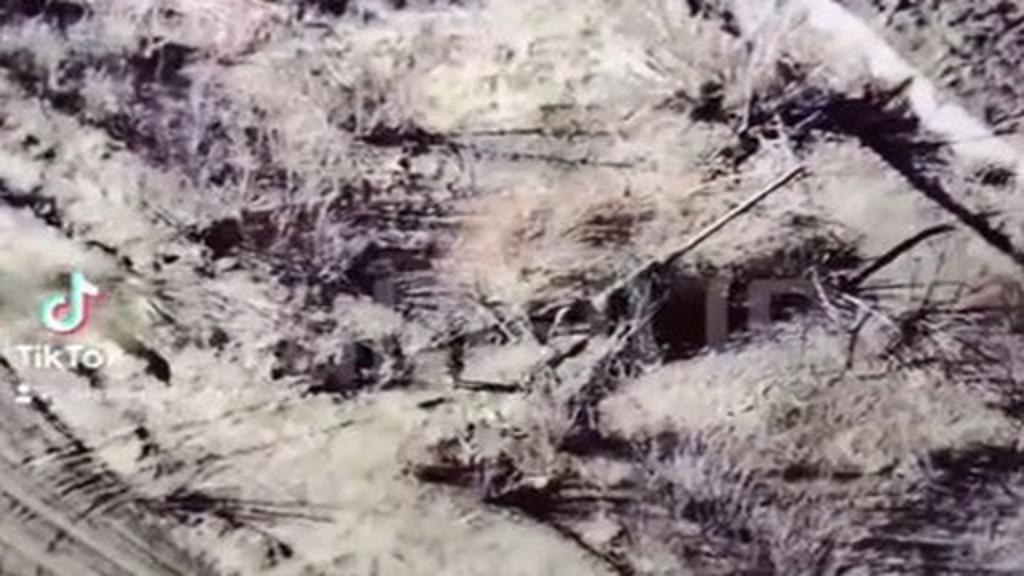ART: (406, 160, 812, 432)
